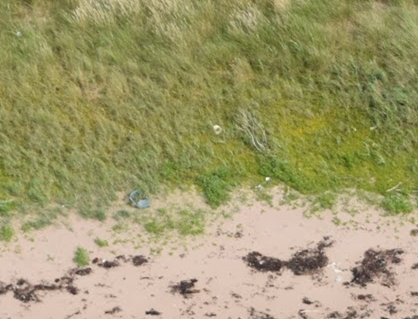white_in_green: (116, 174, 168, 220), (194, 112, 236, 147)
